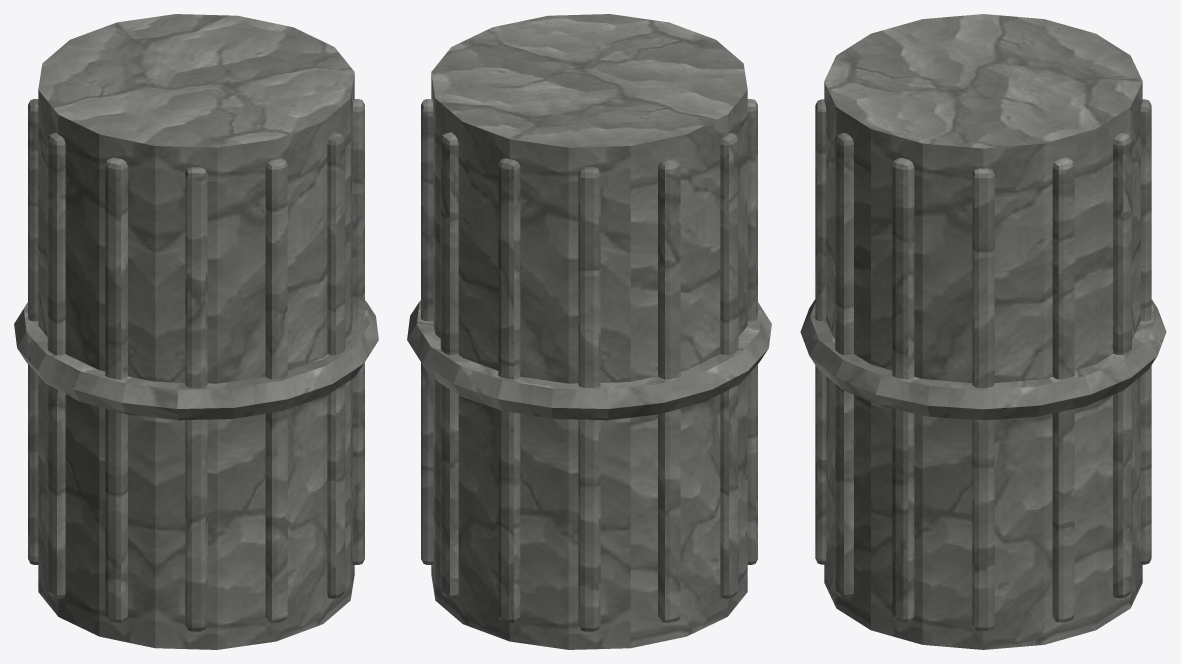
Rendered from column_shaft__cut_marble.glb.
3 views of the same model, side by side, from view 1: azimuth 30°, elevation 25°; view 2: azimuth 150°, elevation 25°; view 3: azimuth 270°, elevation 25° (orthographic).
Parts seen in each view (by area): view 1: model; view 2: model; view 3: model.
Part boxes in pixels (x1,y1,x2,y2): model: (14, 14, 378, 649); model: (407, 14, 771, 649); model: (800, 14, 1166, 649).
Bounding box in the file's own units: 0.662 × 1 × 0.662.
1 material, 1 textured.
